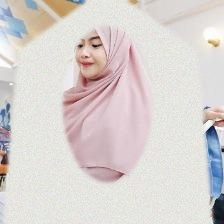Mukena: (0, 31, 219, 224)
